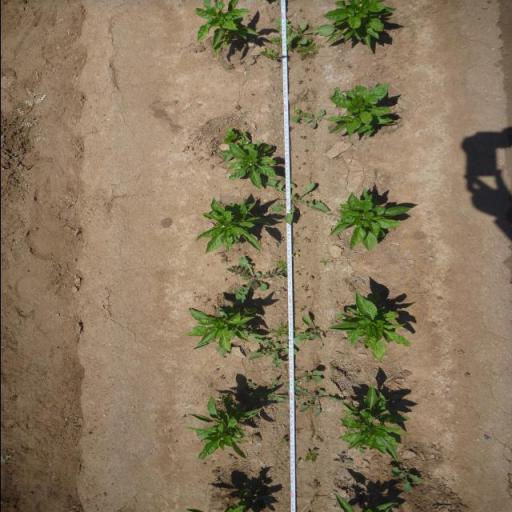plant: (327, 291, 412, 361), (328, 188, 414, 254), (340, 388, 408, 458), (184, 399, 262, 459), (328, 79, 398, 138), (195, 199, 270, 252), (192, 0, 259, 58), (327, 0, 398, 49), (218, 128, 277, 182), (186, 313, 250, 347)
weed: (264, 178, 330, 224), (229, 256, 286, 305), (275, 18, 336, 44), (294, 386, 342, 418), (246, 339, 296, 367), (246, 382, 287, 404), (294, 318, 326, 344), (390, 467, 421, 493), (296, 38, 326, 60), (269, 323, 300, 338), (303, 109, 326, 129), (294, 370, 320, 386), (217, 304, 257, 314), (259, 47, 279, 61), (290, 107, 305, 122), (335, 452, 353, 464), (305, 449, 318, 463), (215, 250, 228, 262), (318, 257, 330, 266), (276, 260, 286, 270), (314, 434, 324, 444), (302, 93, 312, 102), (313, 479, 321, 488), (300, 284, 308, 292), (246, 380, 255, 387), (225, 63, 233, 70), (291, 251, 299, 257), (303, 237, 311, 243), (279, 286, 287, 292), (219, 374, 226, 380), (300, 306, 306, 312), (280, 438, 286, 444), (254, 452, 260, 458), (212, 478, 218, 484), (220, 354, 226, 360), (234, 105, 240, 110), (304, 67, 310, 72), (238, 60, 245, 64), (296, 80, 303, 84), (242, 121, 247, 126), (288, 126, 294, 130), (332, 374, 336, 380), (212, 370, 218, 374), (306, 106, 311, 110), (295, 232, 299, 237), (300, 136, 306, 139), (300, 226, 306, 229), (227, 455, 231, 459), (295, 270, 299, 273), (297, 273, 301, 276), (304, 149, 308, 152), (309, 277, 313, 280), (306, 296, 311, 298), (302, 162, 304, 165)
